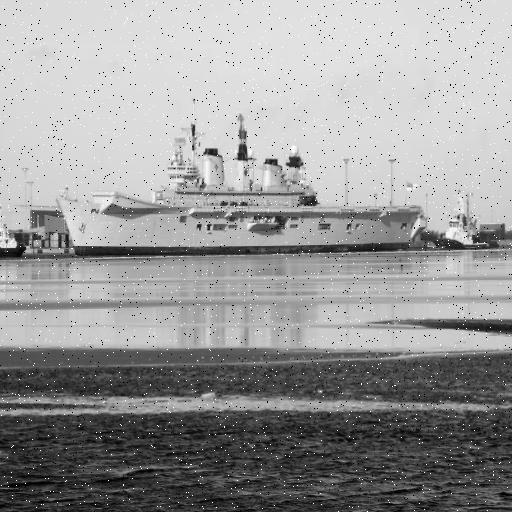Portanaves: (57, 117, 429, 263)
